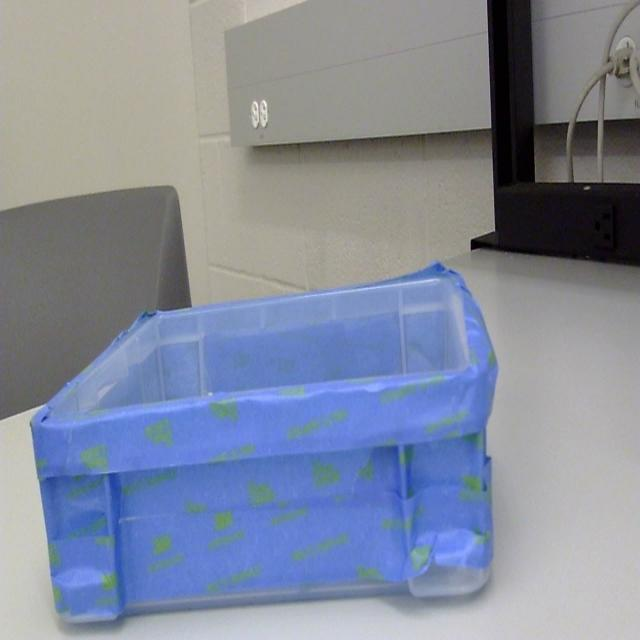bucket: (28, 264, 499, 636)
